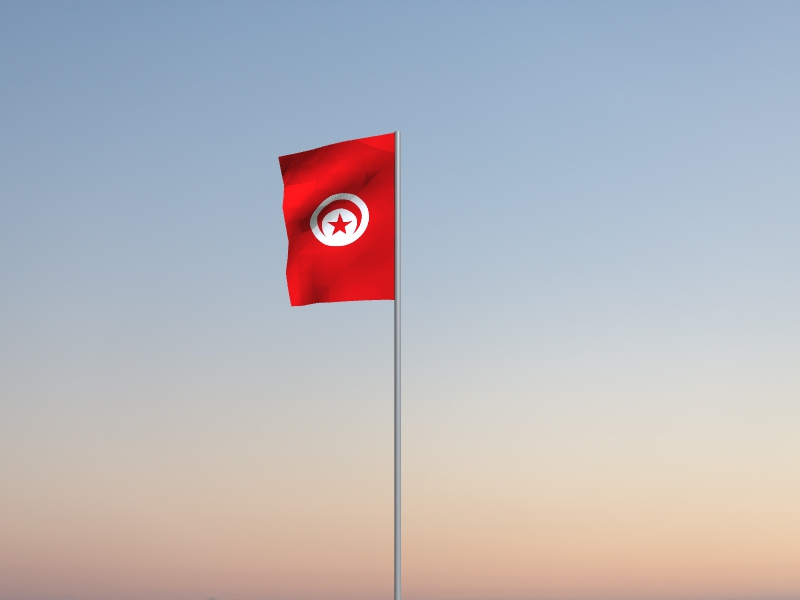tn: (278, 133, 394, 308)
